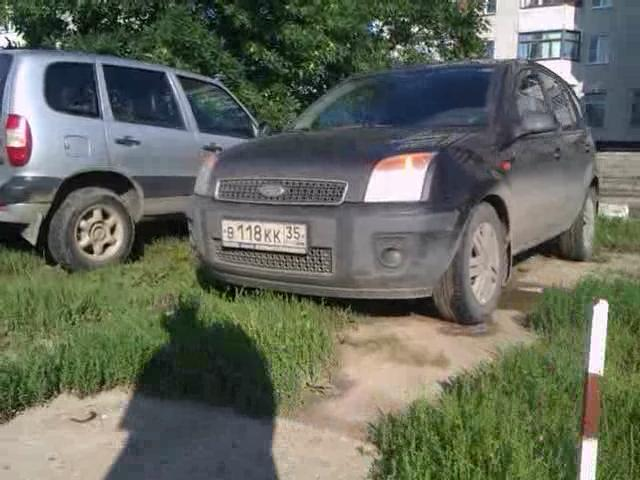car license plate: (220, 214, 308, 258)
